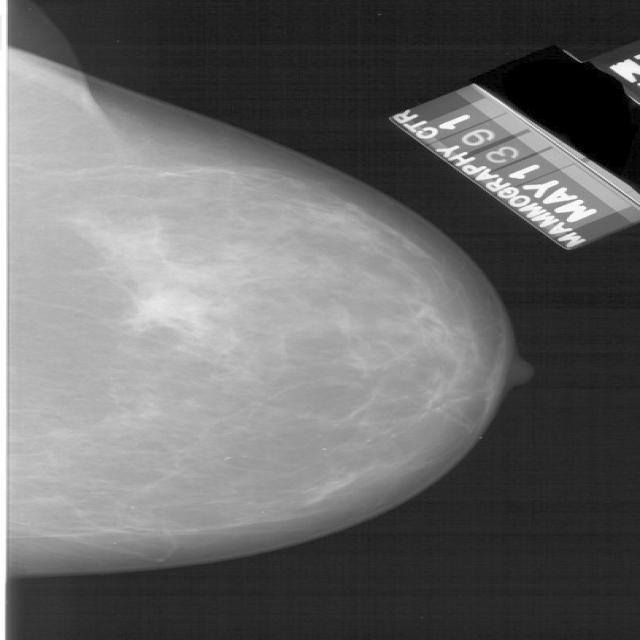tumour: (126, 286, 207, 332)
